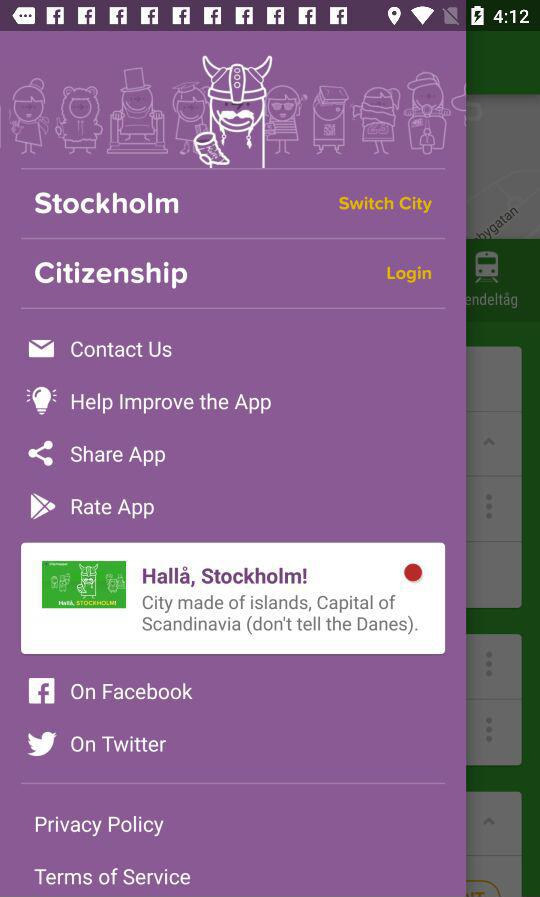Card: (20, 542, 447, 655)
Drawer: (1, 33, 466, 897)
Icon: (27, 730, 59, 757), (28, 677, 57, 705), (31, 492, 57, 522), (28, 440, 55, 468), (28, 339, 56, 359)
Image: (12, 52, 466, 171), (42, 561, 127, 609), (26, 386, 59, 417)
Text: (142, 594, 419, 635), (71, 392, 272, 416), (34, 260, 189, 290), (142, 566, 308, 588), (34, 192, 180, 216), (33, 866, 192, 887), (34, 814, 165, 838), (70, 682, 194, 701), (70, 445, 167, 468), (338, 196, 433, 216), (71, 498, 156, 520), (71, 735, 168, 754), (71, 341, 173, 359), (386, 265, 433, 285)
UpperTaskBar: (1, 1, 540, 33)
